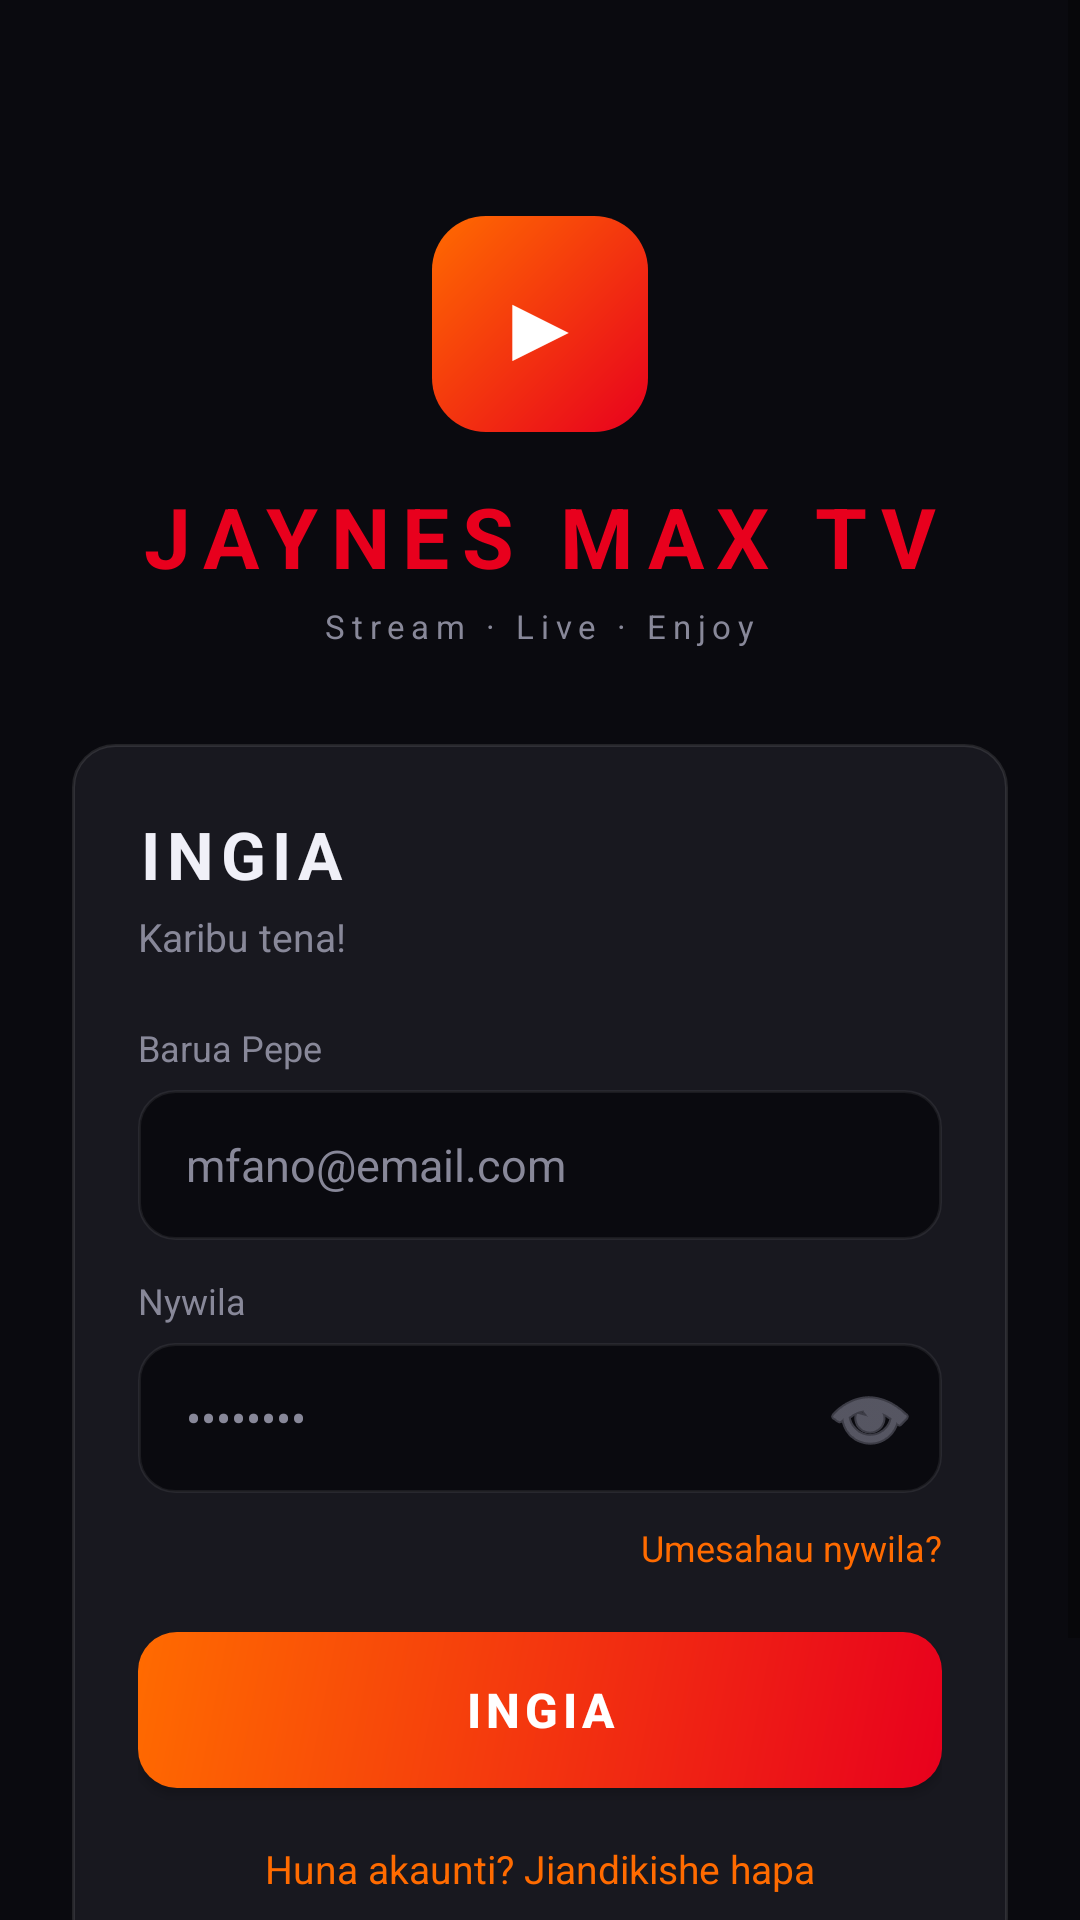

Screen size 1080x1920. Icon name, then its center in pixels as (x=x, y=y):
Onyesha nywila: (x=870, y=1420)
